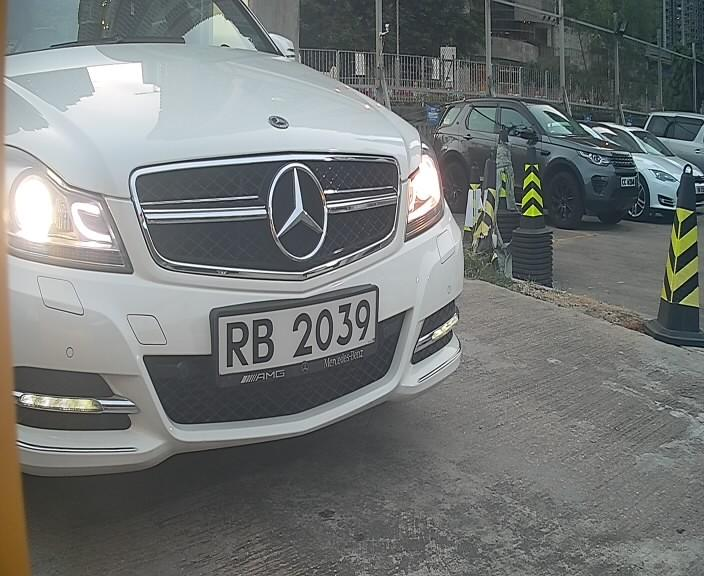License Plate: (195, 286, 381, 381)
